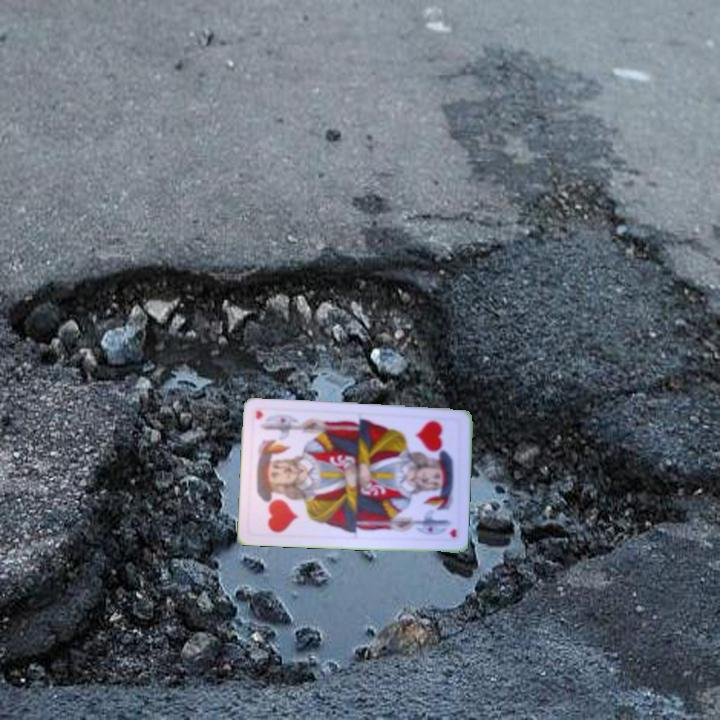h_j.png: (403, 414, 463, 483), (247, 468, 307, 537)
